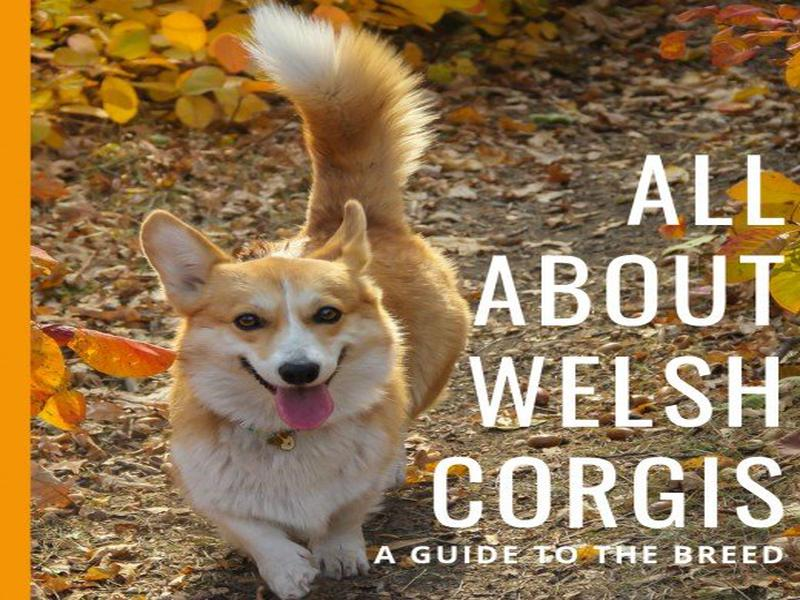corgi: (138, 200, 377, 432)
